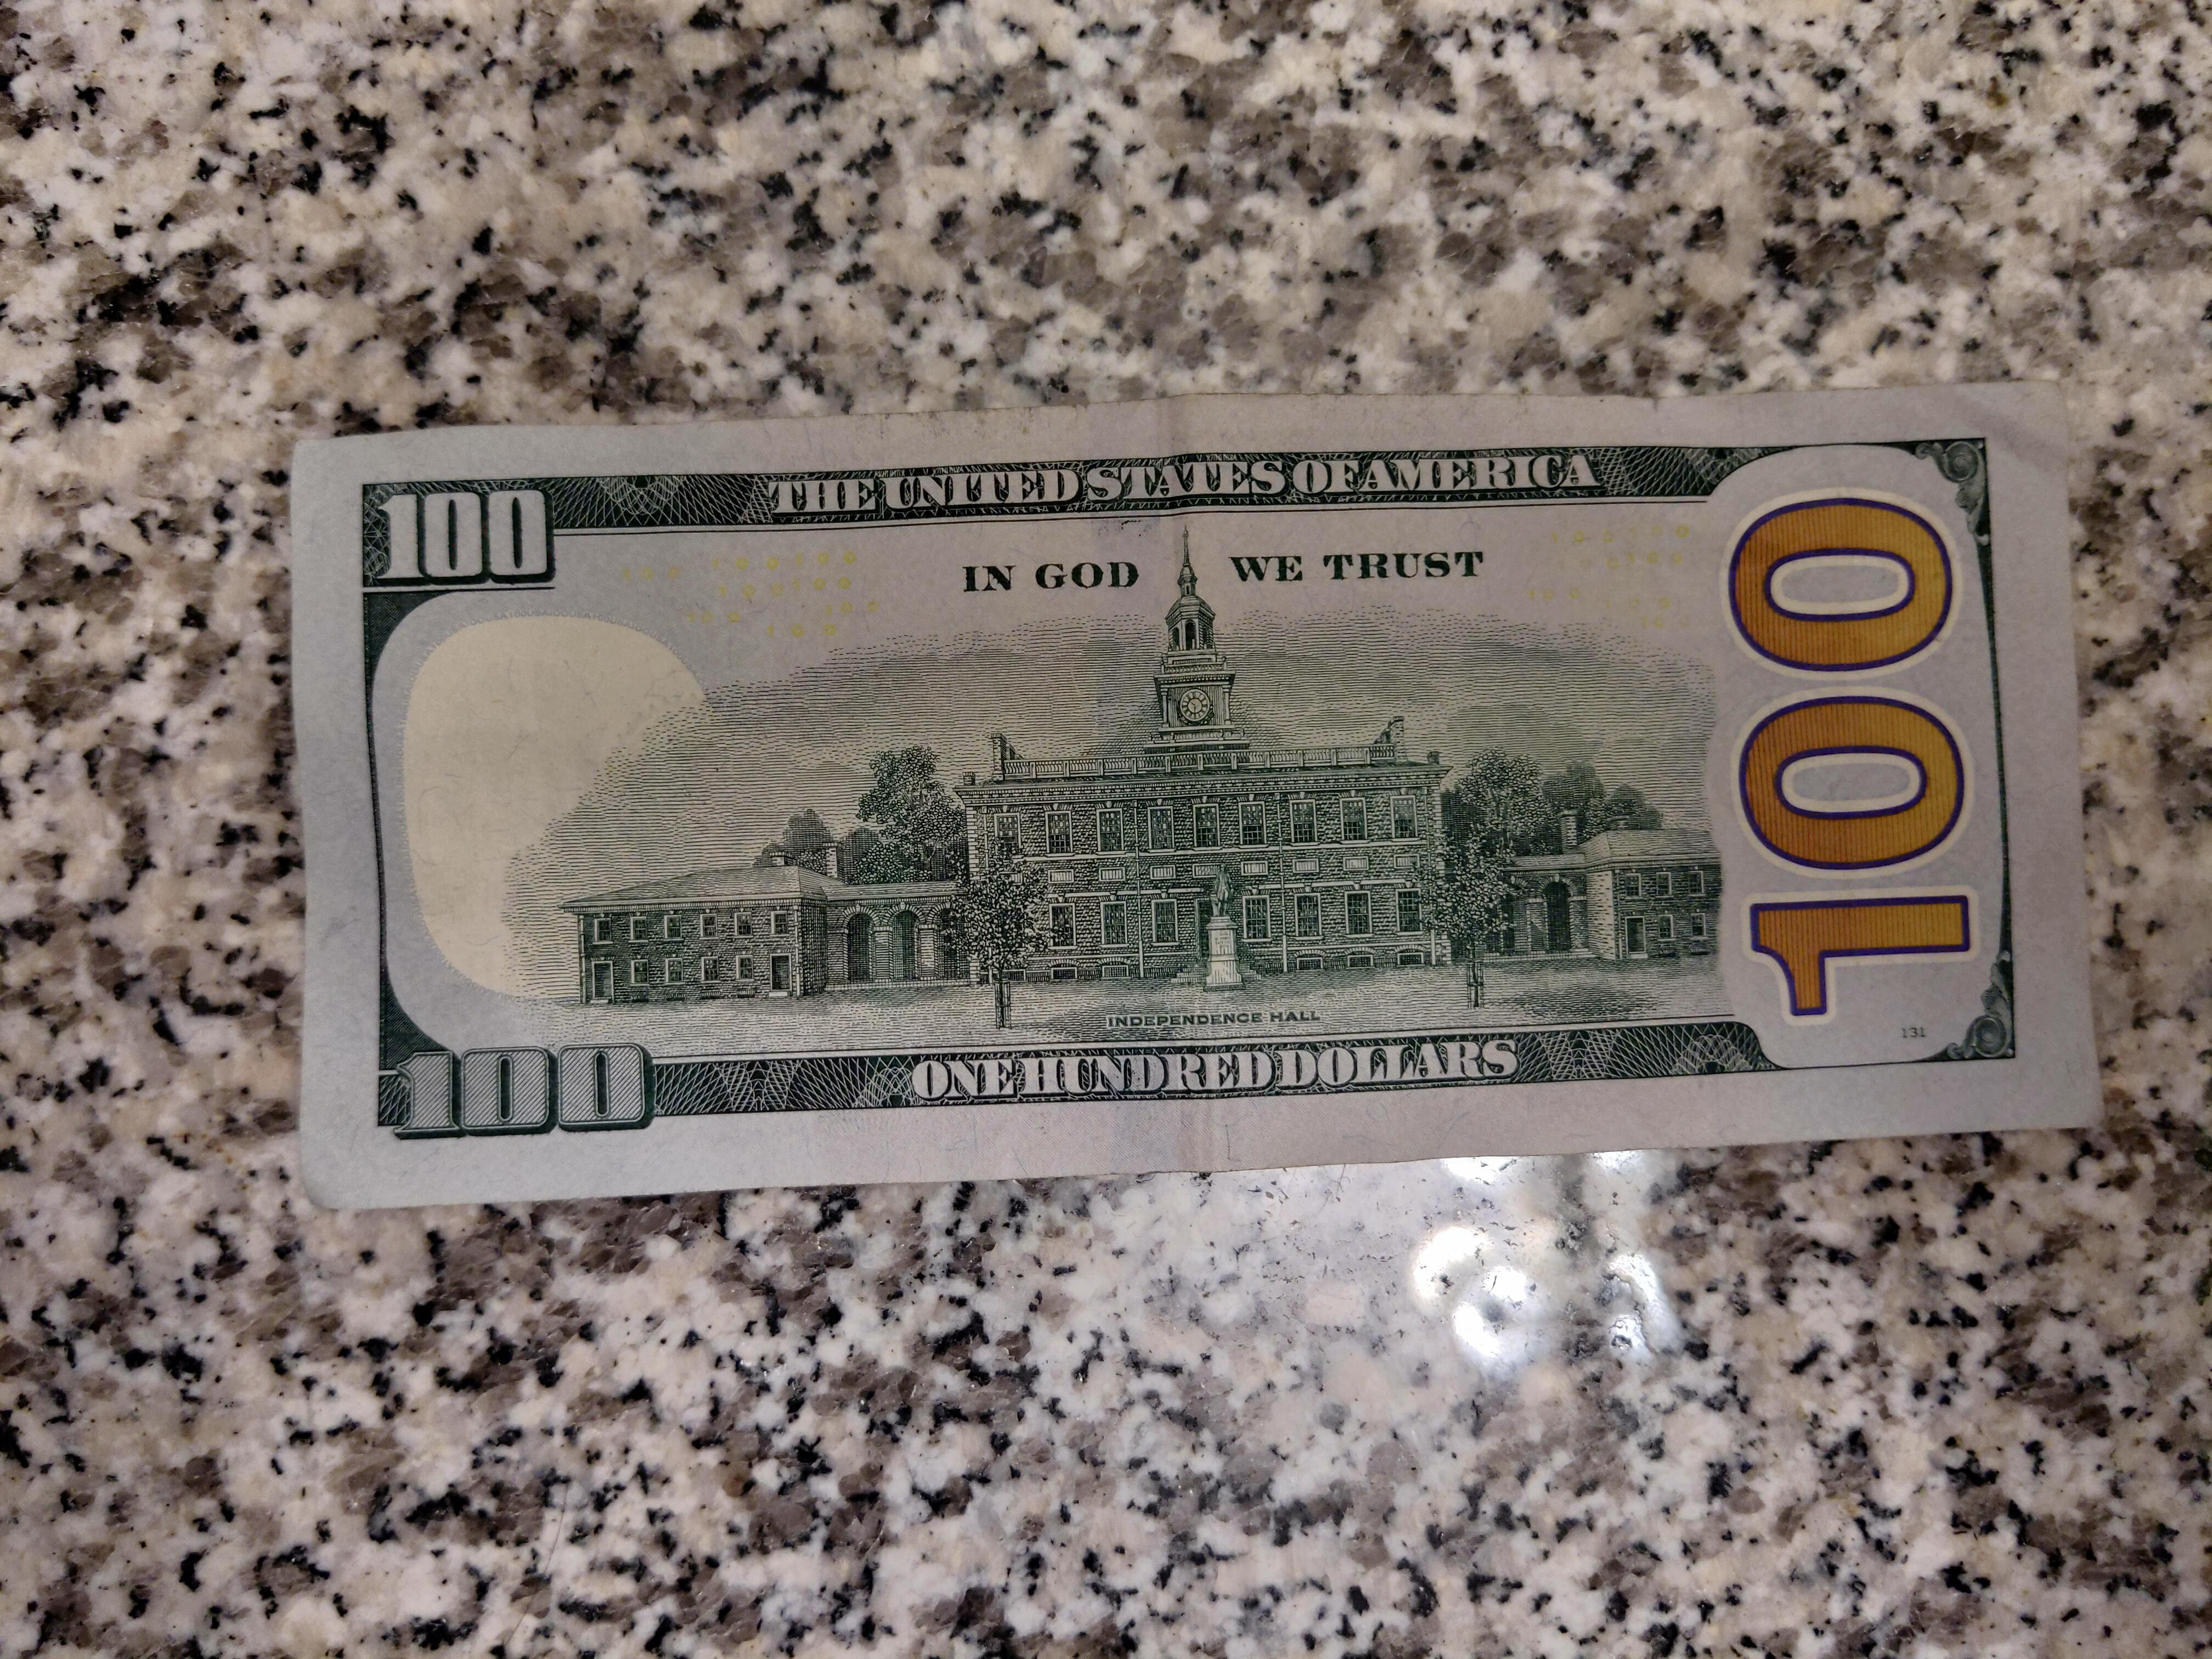HundredBill: (287, 369, 2102, 1215)
